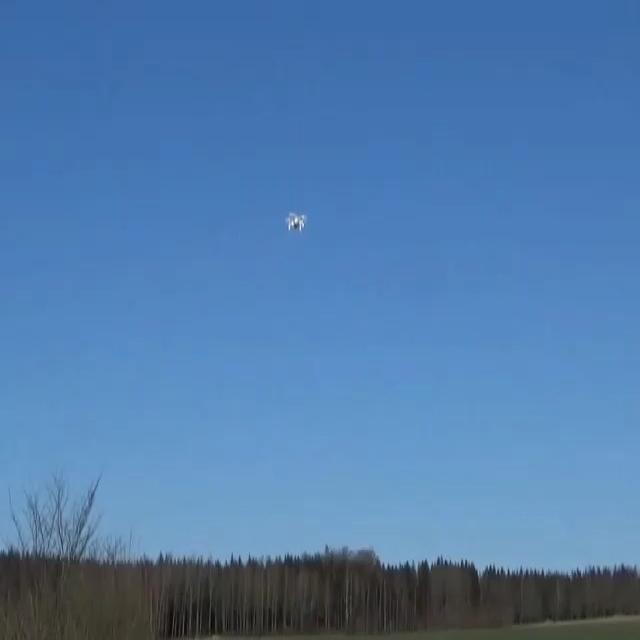drone: (284, 211, 308, 234)
